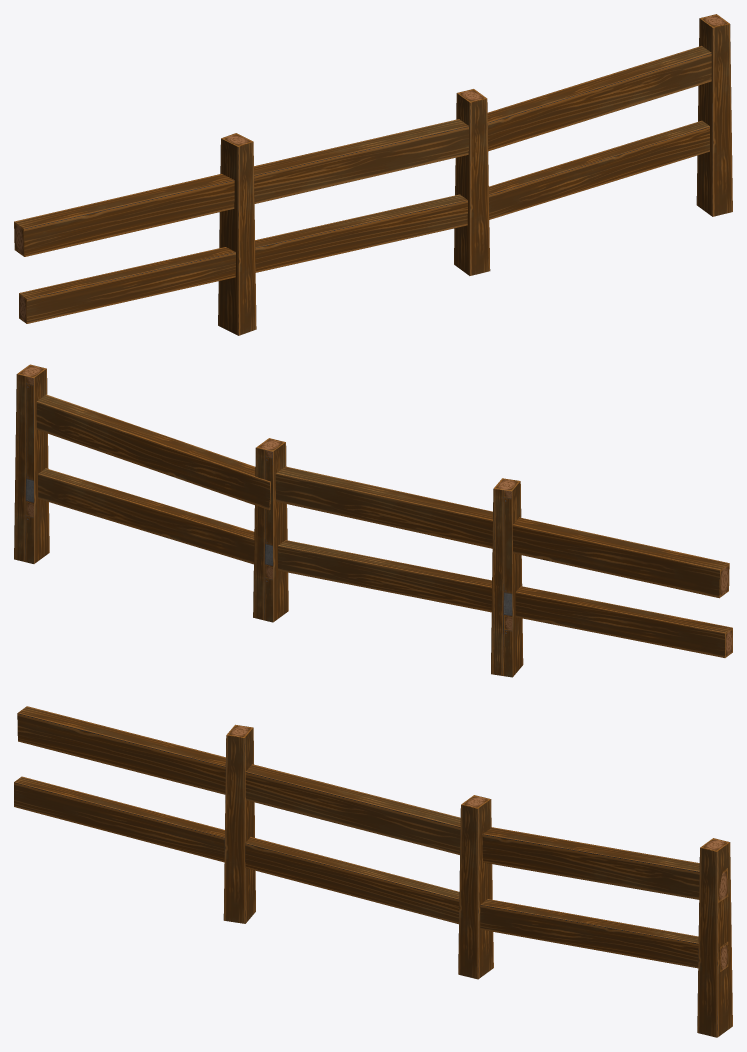
3 renders of one model, top to bottom at view 1: azimuth 30°, elevation 25°; view 2: azimuth 150°, elevation 25°; view 3: azimuth 330°, elevation 25°, orthographic.
Visible parts, largest first — view 1: Cube.2157; view 2: Cube.2157; view 3: Cube.2157.
Boxes of the visible parts, left/top/right/bottom form: Cube.2157: left=14, top=14, right=732, bottom=335; Cube.2157: left=14, top=364, right=732, bottom=677; Cube.2157: left=14, top=706, right=732, bottom=1037.
Bounding box in the file's own units: 522 × 132 × 25.43.
Materials: 1 (1 with a texture image).
